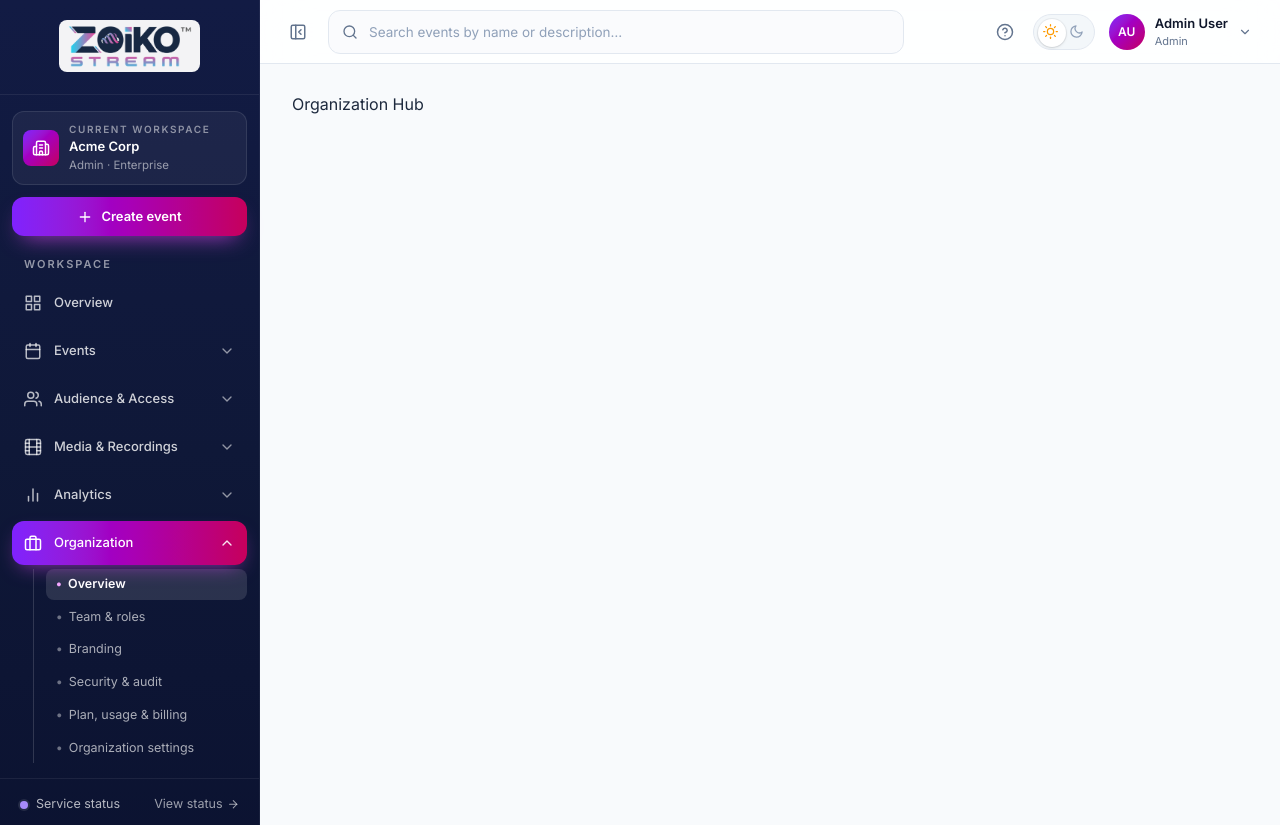
Scenario: Analytics Parent and Sub-Navigation › navigates from another page to Analytics and shows Overview
This screenshot has width=1280, height=825.
Expected: the text "Organization Hub" is shown, [292,94,424,114]
Click the link "Analytics": x=68, y=495 [24,486,112,504]
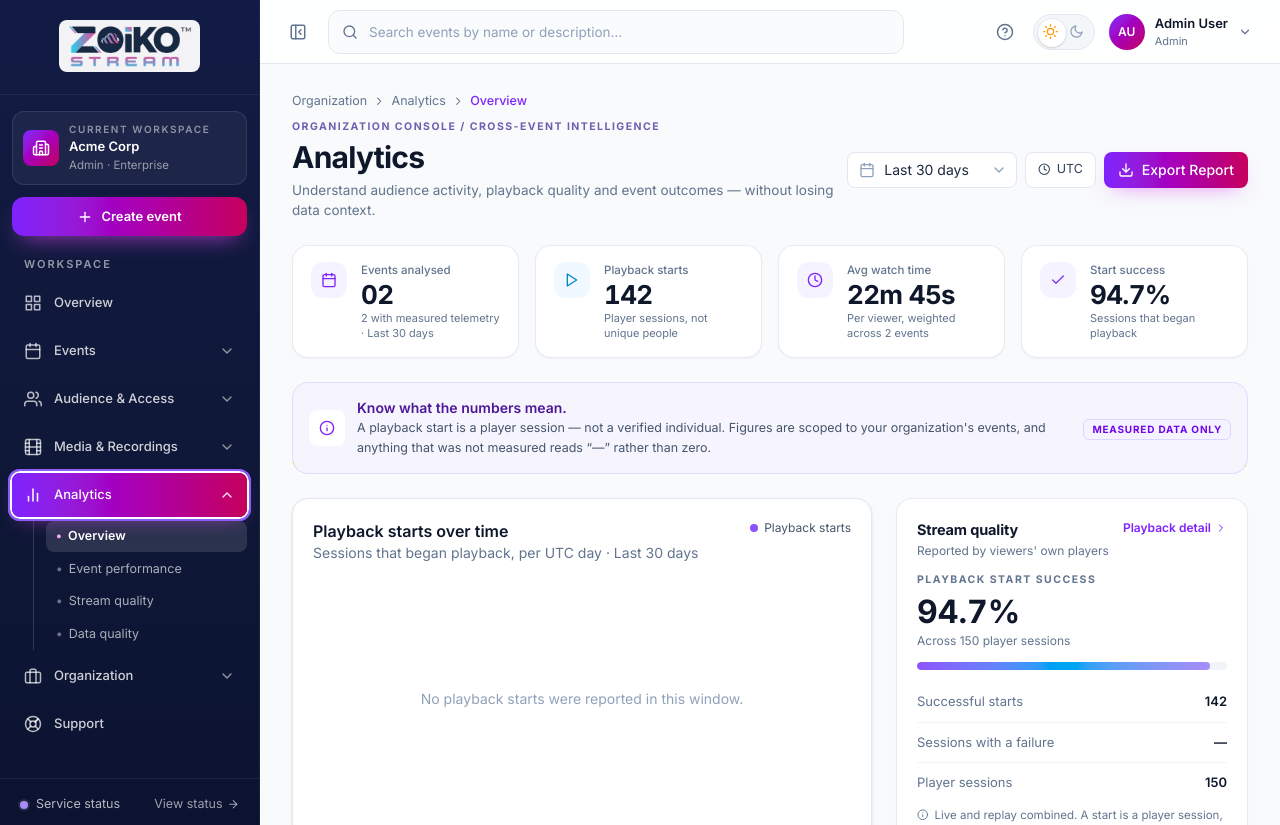
Expected: the heading "Analytics" is shown, [292,138,424,174]
